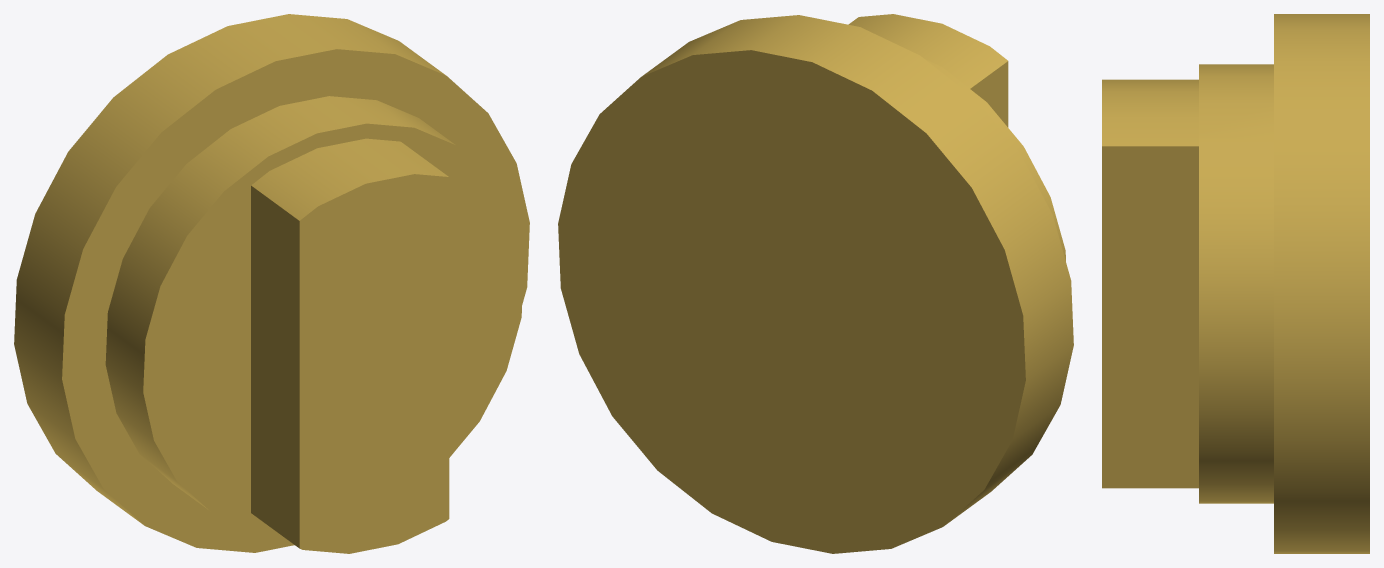
The model's file is original-112.obj.
3 renders of one model, left to right at view 1: azimuth 30°, elevation 25°; view 2: azimuth 150°, elevation 25°; view 3: azimuth 270°, elevation 25°, orthographic.
Parts seen in each view (by area): view 1: Group43/mesh106/mesh106-geometry#mesh106-geometry; view 2: Group43/mesh106/mesh106-geometry#mesh106-geometry; view 3: Group43/mesh106/mesh106-geometry#mesh106-geometry.
Boxes of the visible parts, left/top/right/bottom form: Group43/mesh106/mesh106-geometry#mesh106-geometry: left=14, top=14, right=529, bottom=553; Group43/mesh106/mesh106-geometry#mesh106-geometry: left=558, top=14, right=1073, bottom=553; Group43/mesh106/mesh106-geometry#mesh106-geometry: left=1102, top=14, right=1369, bottom=553.
Bounding box in the file's own units: 0.0865 × 0.0865 × 0.0429.
